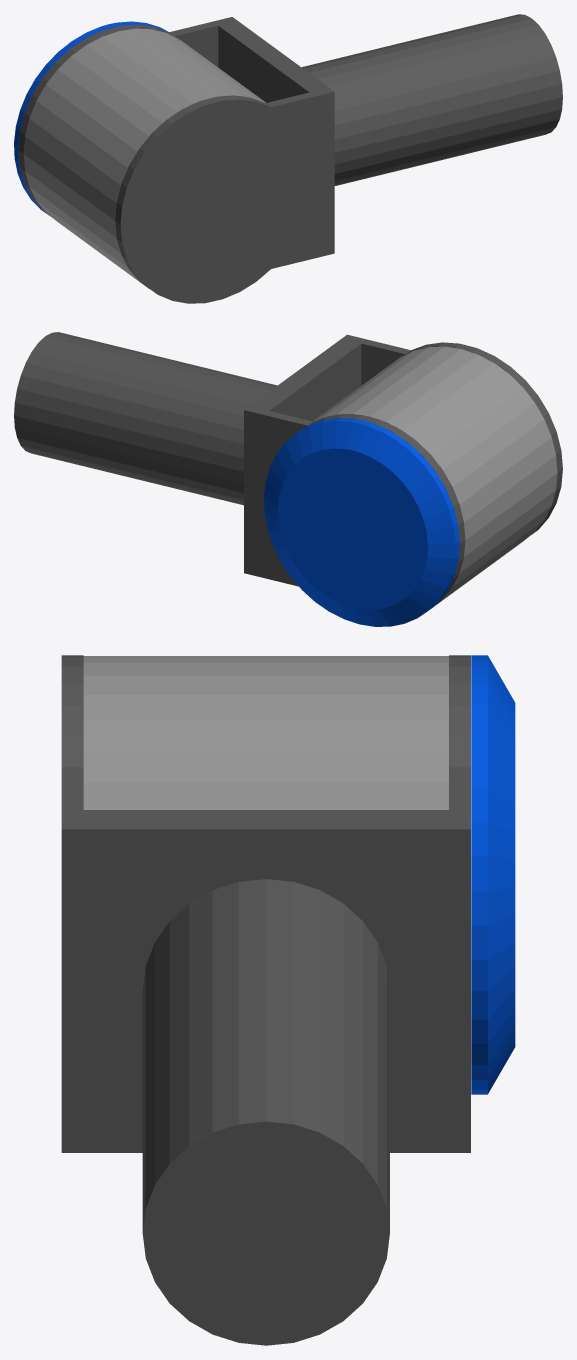
Rendered from arm_link_3.dae.
3 views of the same model, one above another, from view 1: azimuth 30°, elevation 25°; view 2: azimuth 150°, elevation 25°; view 3: azimuth 270°, elevation 25° (orthographic). The views are drawn at different scales.
Parts seen in each view (by area): view 1: 简化-关节U型件, 简化-大臂, 关节模块, 大关节盖; view 2: 大关节盖, 简化-大臂, 关节模块, 简化-关节U型件; view 3: 简化-大臂, 简化-关节U型件, 关节模块, 大关节盖.
Part boxes in pixels (left/top/right/bottom): 简化-关节U型件: left=18, top=17, right=334, bottom=303; 简化-大臂: left=301, top=14, right=562, bottom=185; 关节模块: left=23, top=28, right=265, bottom=288; 大关节盖: left=14, top=21, right=168, bottom=216; 大关节盖: left=264, top=418, right=459, bottom=626; 简化-大臂: left=14, top=332, right=277, bottom=505; 关节模块: left=313, top=346, right=557, bottom=606; 简化-关节U型件: left=244, top=334, right=562, bottom=605; 简化-大臂: left=142, top=879, right=389, bottom=1345; 简化-关节U型件: left=61, top=655, right=470, bottom=1152; 关节模块: left=83, top=656, right=448, bottom=809; 大关节盖: left=471, top=655, right=515, bottom=1094.
Size of the model in its own units: 0.1945 by 0.0826 by 0.08.
